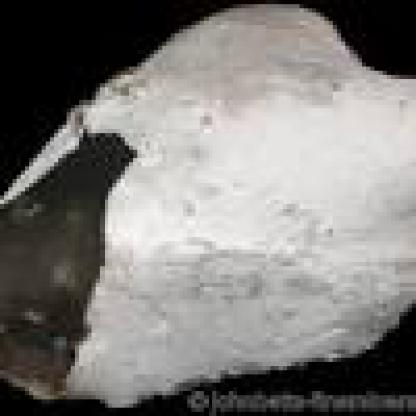Sedimentary_Chalk: (112, 8, 412, 387)
